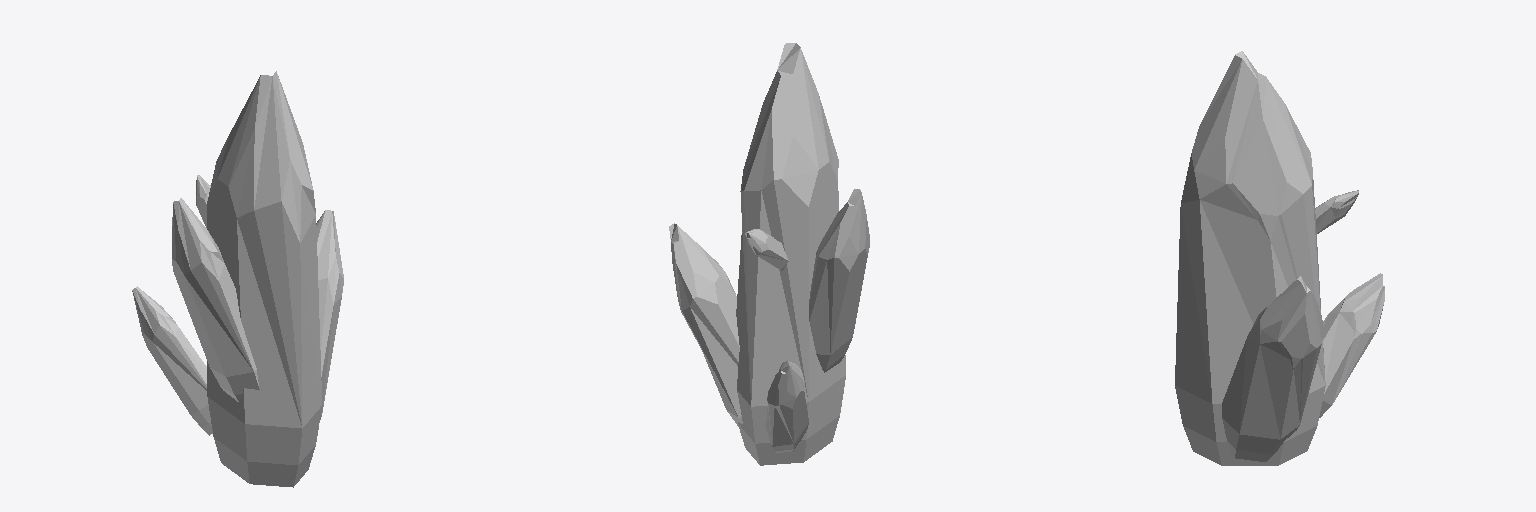
The model's file is test_cryst1.obj.
The picture shows the model from 3 angles: view 1: azimuth 30°, elevation 25°; view 2: azimuth 150°, elevation 25°; view 3: azimuth 270°, elevation 25°; orthographic projection.
Parts seen in each view (by area): view 1: test_c_Cylinder, test_c.001_Cylinder, test_c.004_Cylinder, test_c.002_Cylinder; view 2: test_c_Cylinder, test_c.001_Cylinder, test_c.002_Cylinder, test_c.004_Cylinder, test_c.005_Cylinder; view 3: test_c_Cylinder, test_c.002_Cylinder, test_c.004_Cylinder, test_c.005_Cylinder.
Part boxes in pixels (x1,y1,x2,y2): test_c_Cylinder: (207,71,321,487); test_c.001_Cylinder: (172,198,259,402); test_c.004_Cylinder: (132,286,212,435); test_c.002_Cylinder: (316,210,343,419); test_c_Cylinder: (736,43,845,465); test_c.001_Cylinder: (809,189,869,372); test_c.002_Cylinder: (669,223,742,426); test_c.004_Cylinder: (766,361,808,453); test_c.005_Cylinder: (745,229,788,270); test_c_Cylinder: (1175,51,1325,465); test_c.002_Cylinder: (1222,276,1322,461); test_c.004_Cylinder: (1319,273,1384,417); test_c.005_Cylinder: (1315,190,1358,233).
Size of the model in its own units: 1.33 by 2.85 by 1.37.